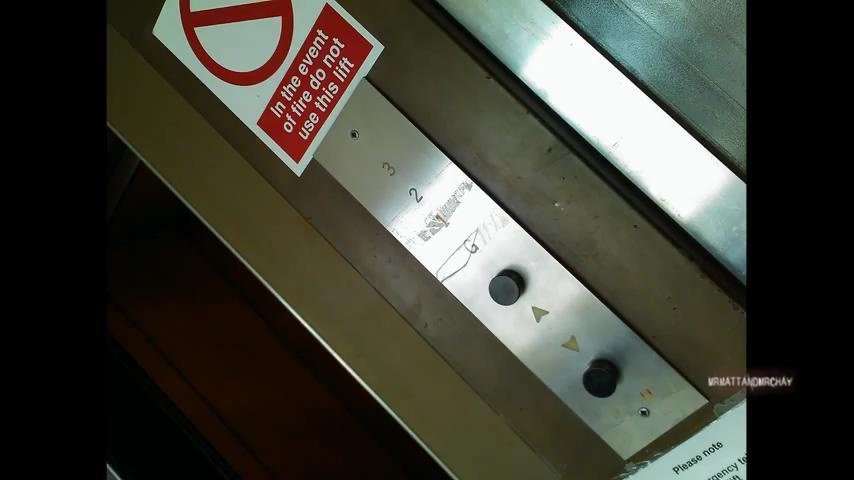empty: (582, 355, 623, 398), (487, 267, 527, 308)
